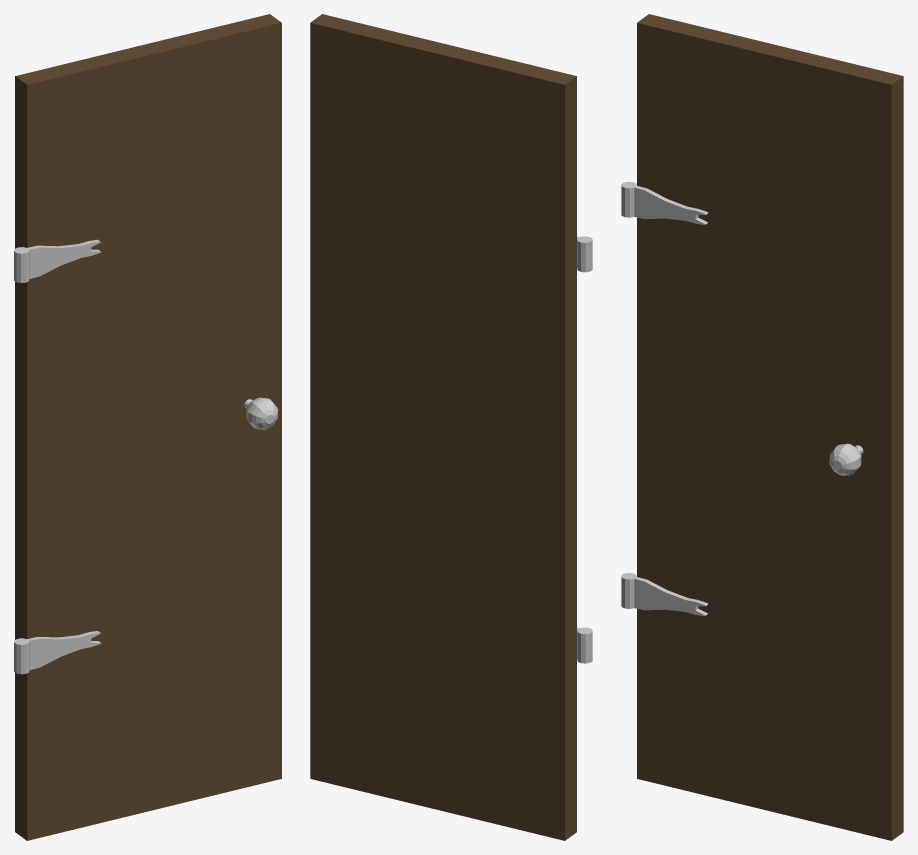
The model's file is Cabinet_Door_Left_low.fbx.
3 views of the same model, side by side, from view 1: azimuth 30°, elevation 25°; view 2: azimuth 150°, elevation 25°; view 3: azimuth 330°, elevation 25° (orthographic).
Visible parts, largest first — view 1: Cabinet_Door_Left_low; view 2: Cabinet_Door_Left_low; view 3: Cabinet_Door_Left_low.
Part boxes in pixels (x1=…): Cabinet_Door_Left_low: x1=14, y1=14, x2=281, y2=840; Cabinet_Door_Left_low: x1=310, y1=14, x2=592, y2=840; Cabinet_Door_Left_low: x1=621, y1=14, x2=903, y2=840.
Size of the model in its own units: 65.84 by 177 by 14.06.
